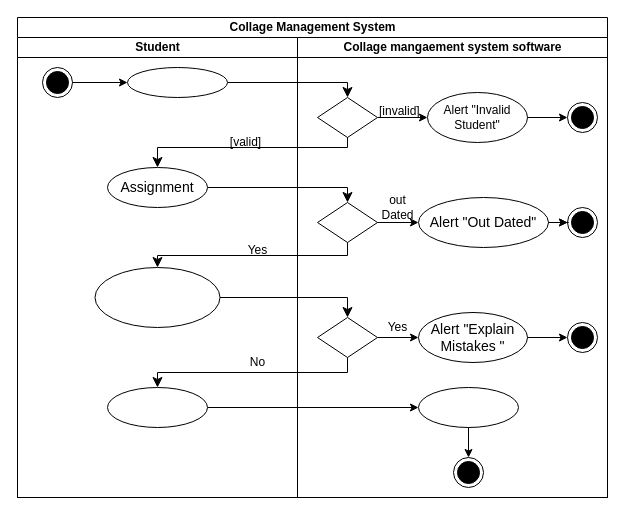
This 625x515 diagram has some shape labels left out. Here are the shapes that lost their labels. From the top down, the centre of each, then its label:
pixel 177 82: Student Login
pixel 157 297: Request To Verify
pixel 157 407: Change Mistake
pixel 468 407: Done Verification
